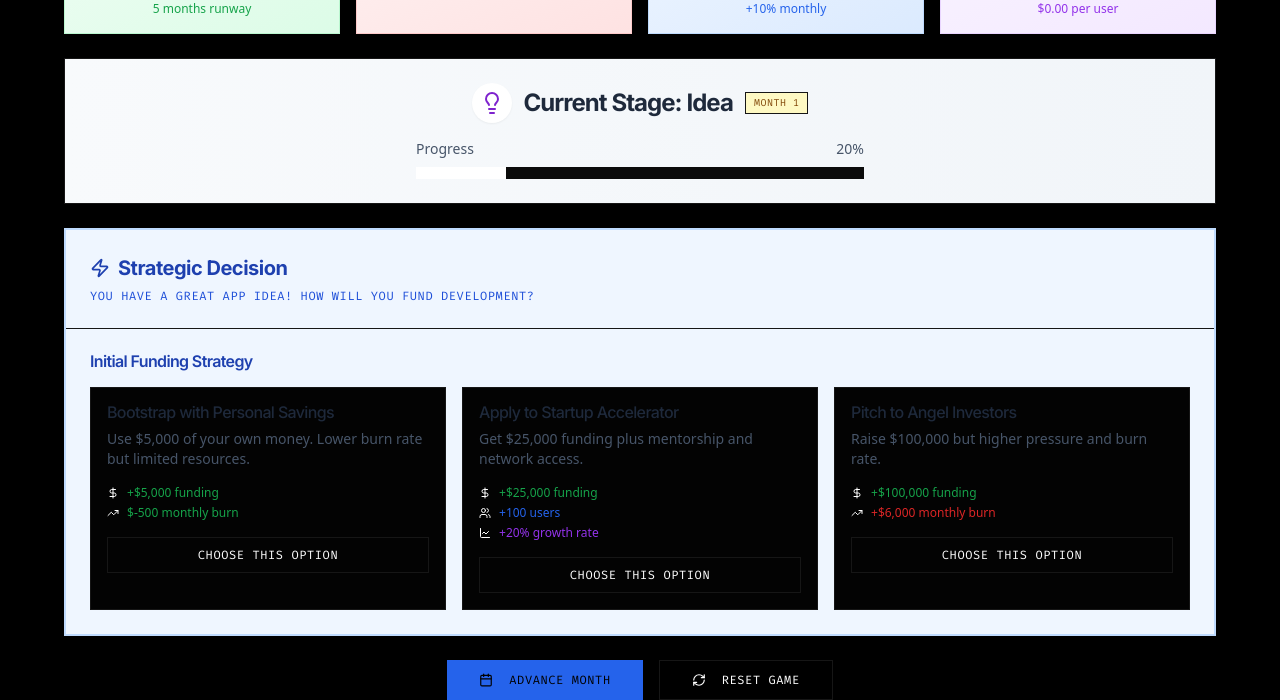
StartupJourney › updates funding and notifies parent when a decision is made
(page scrolled)
Expected: the heading "Strategic Decision" is shown, [90,256,287,280]
What coordinates should you click on to do the following:
click the button "Choose This Option" below "-500"
I would click on:
 (268, 555)
Its box is [107,537,429,573].
(page scrolled)
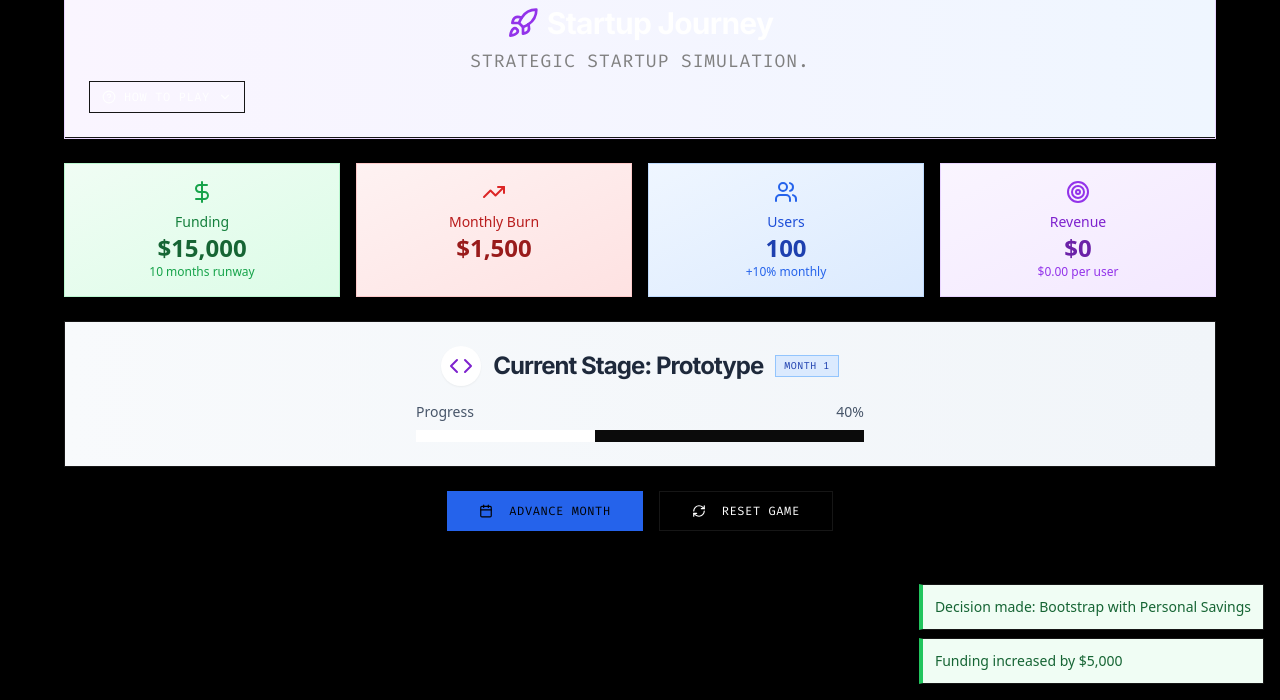
Expected: the text "$15,000" is shown, [157,231,247,264]
